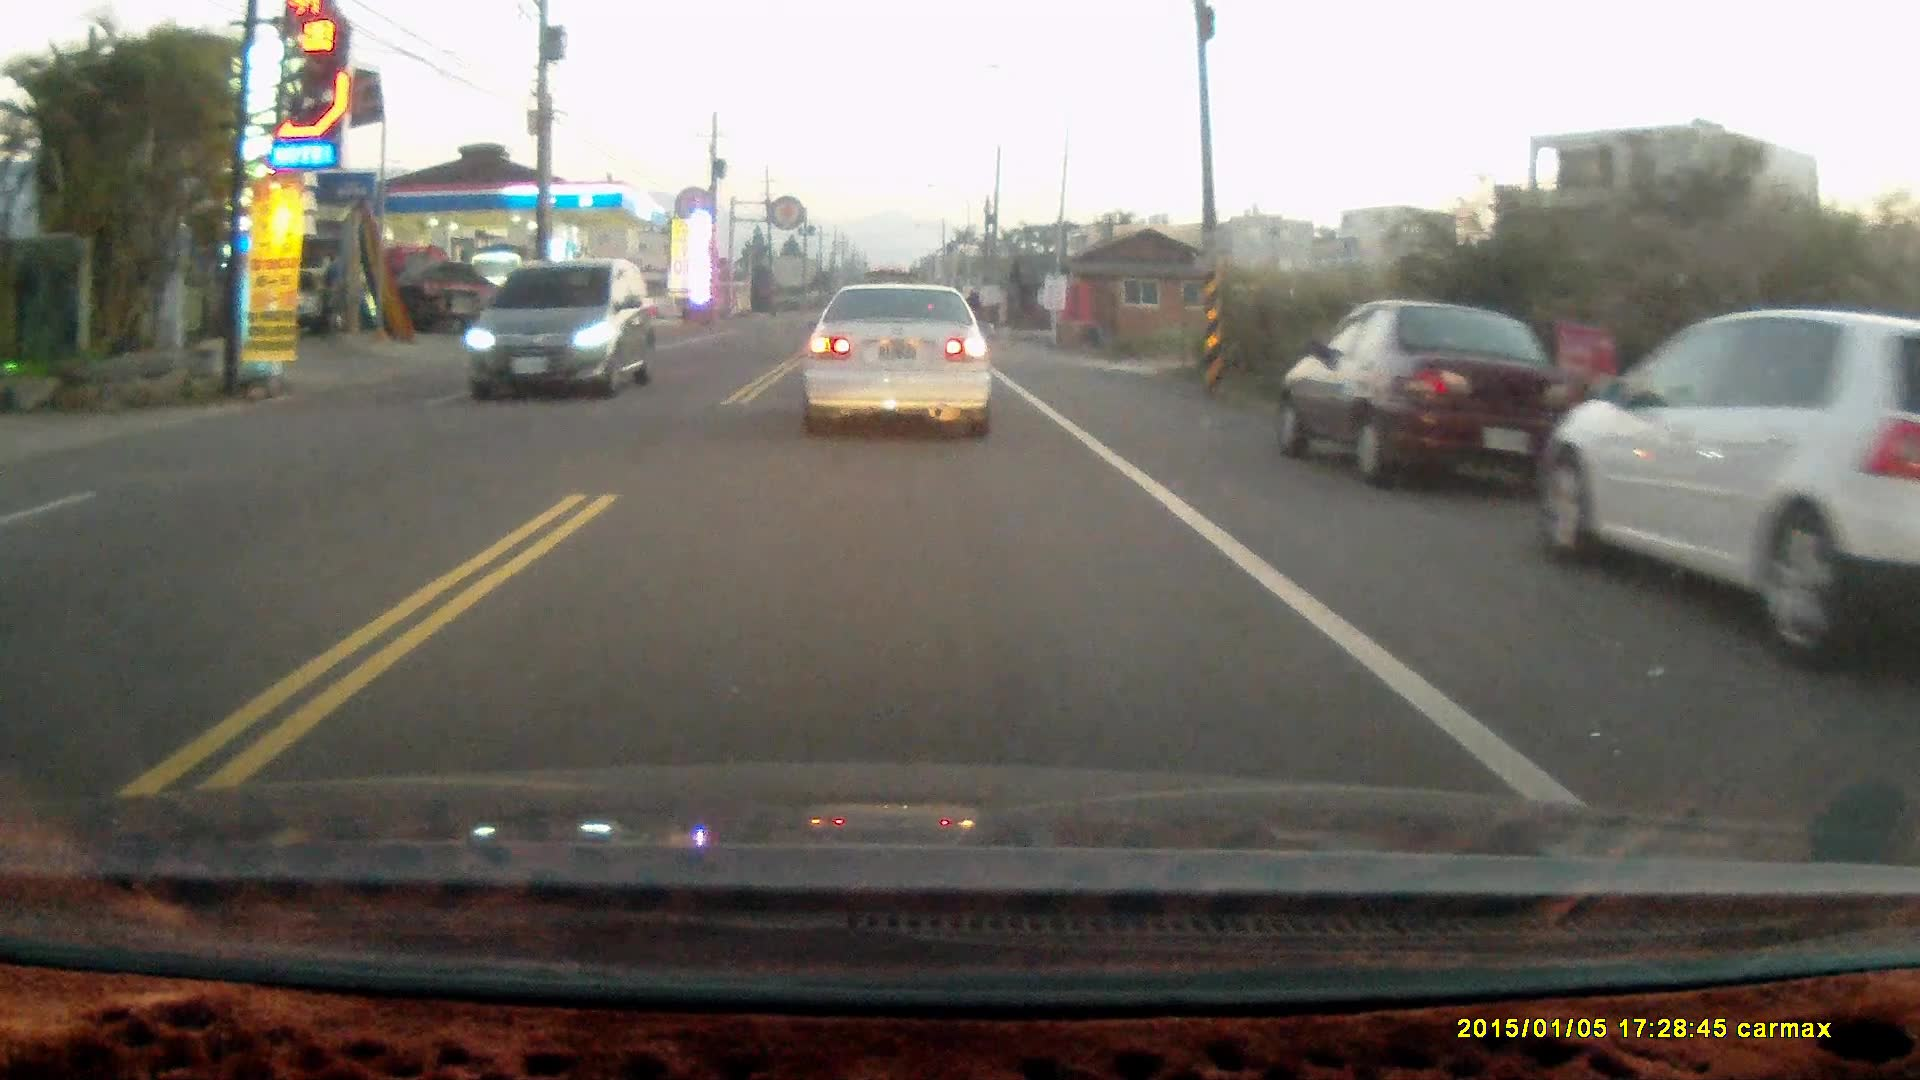vehicle: (1530, 306, 1920, 687), (1276, 301, 1589, 491), (796, 280, 996, 444), (469, 255, 658, 400)
